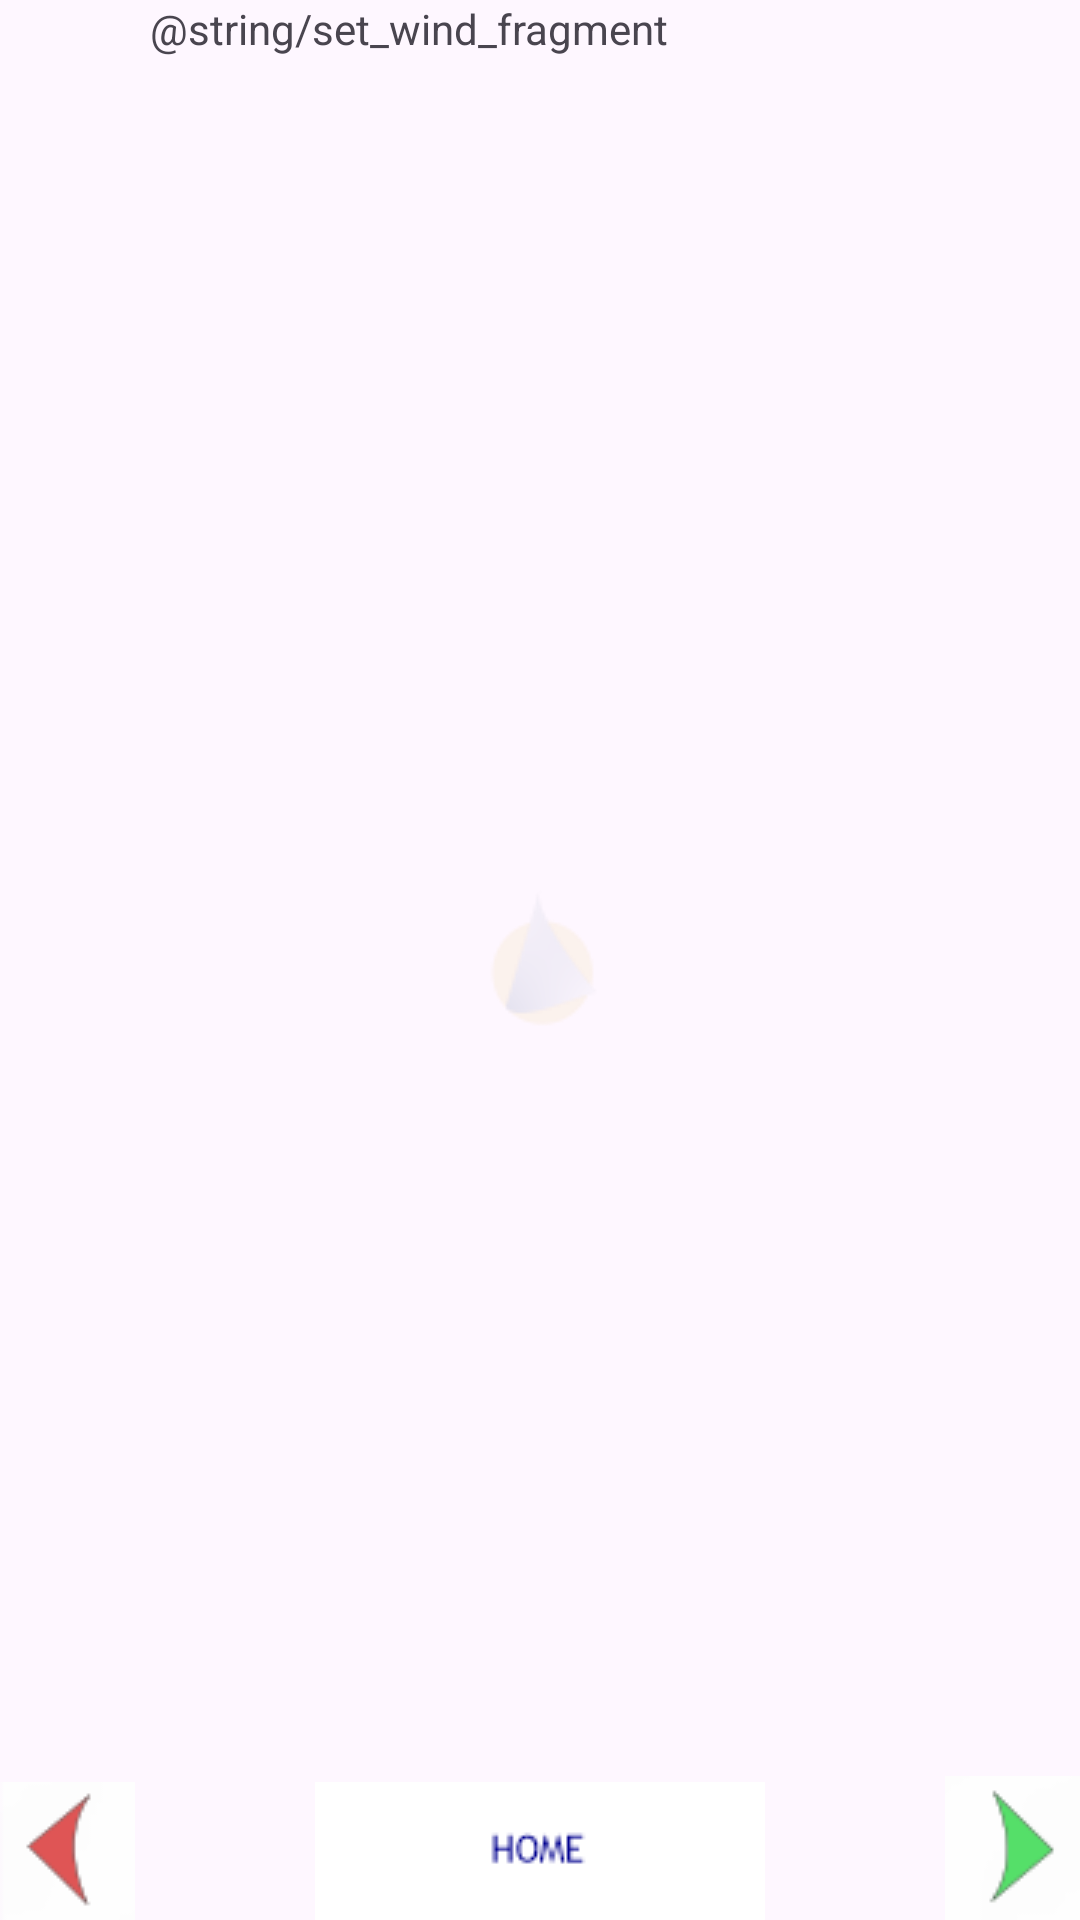

Screen size 1080px×1920px. Icon name, then its center in pixels as [x,y]:
Left Nav: [58,1849]
Right Nav: [1022,1846]
